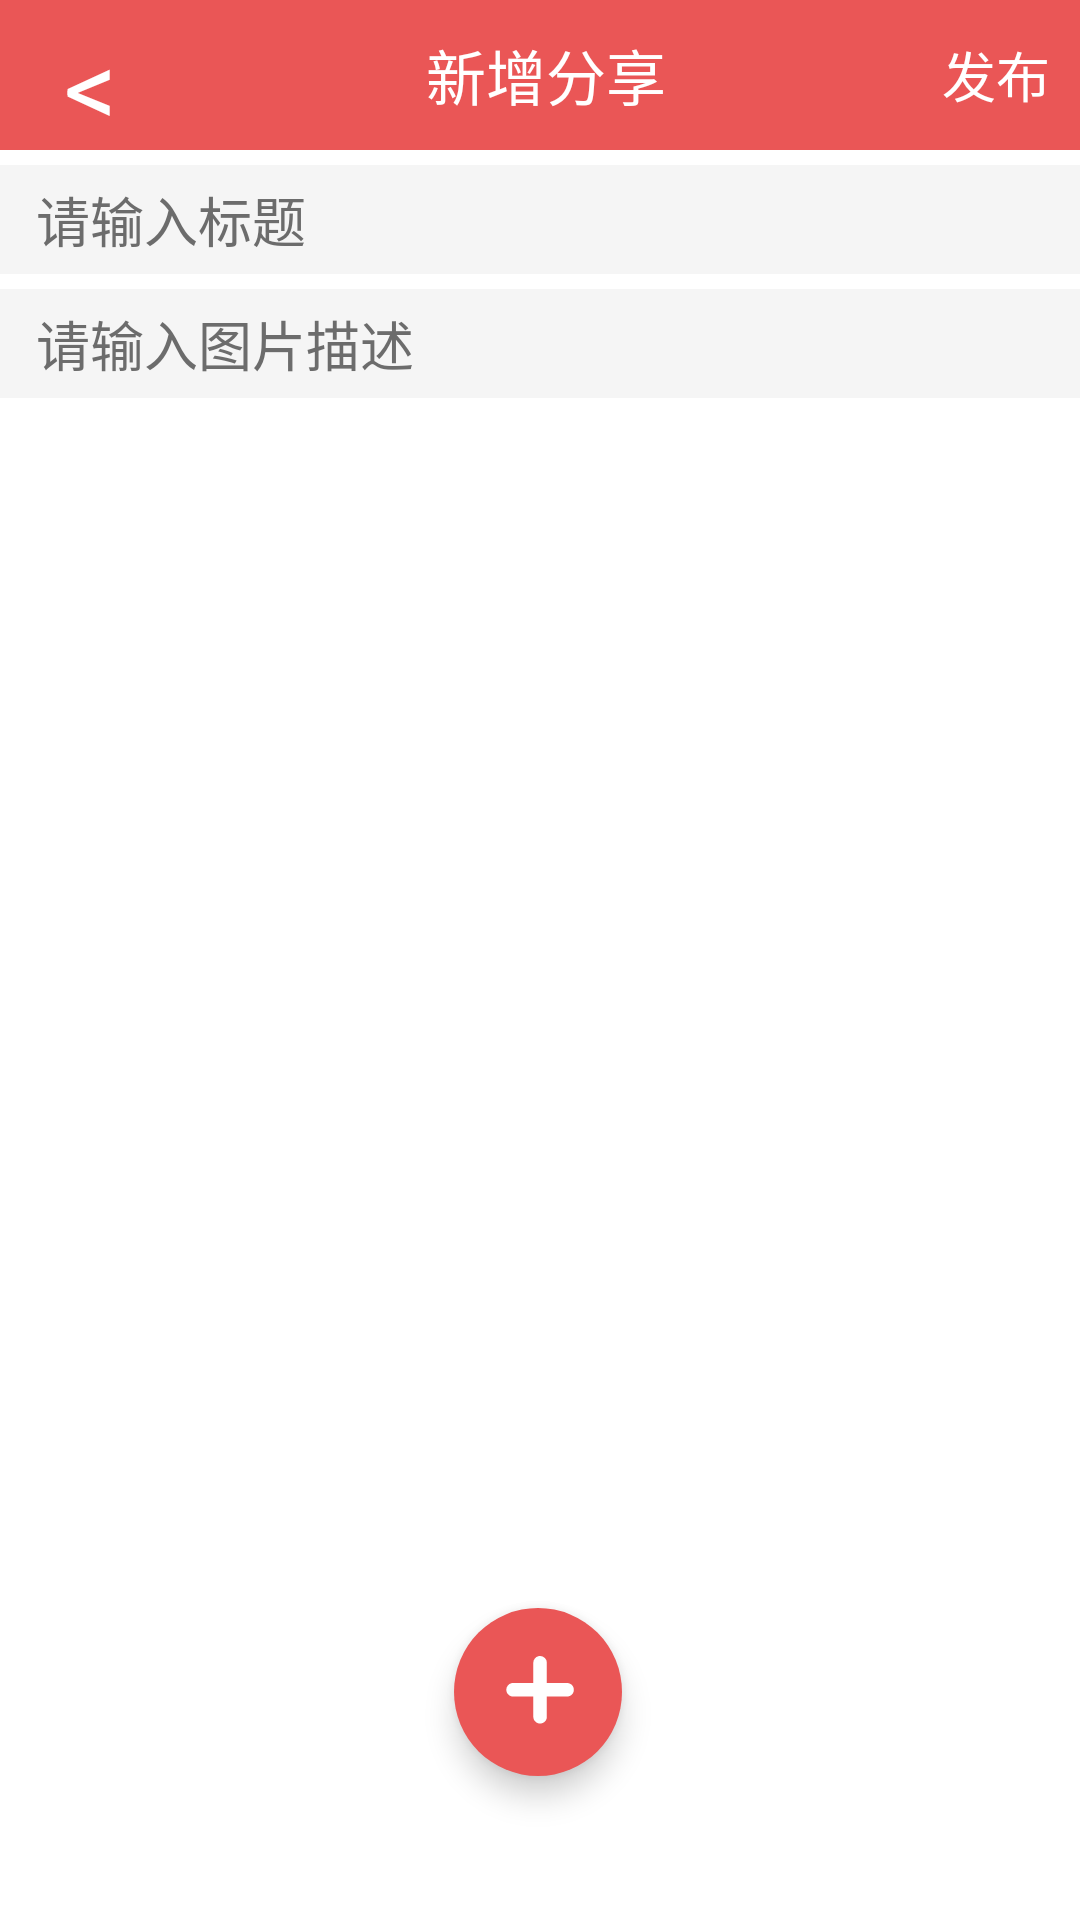

Icons on this 1080px x 1920px Android screen, each with its box as {"left": x1, "top": y1, "right": x2, "bottom": y2}:
add: {"left": 454, "top": 1608, "right": 622, "bottom": 1776}
